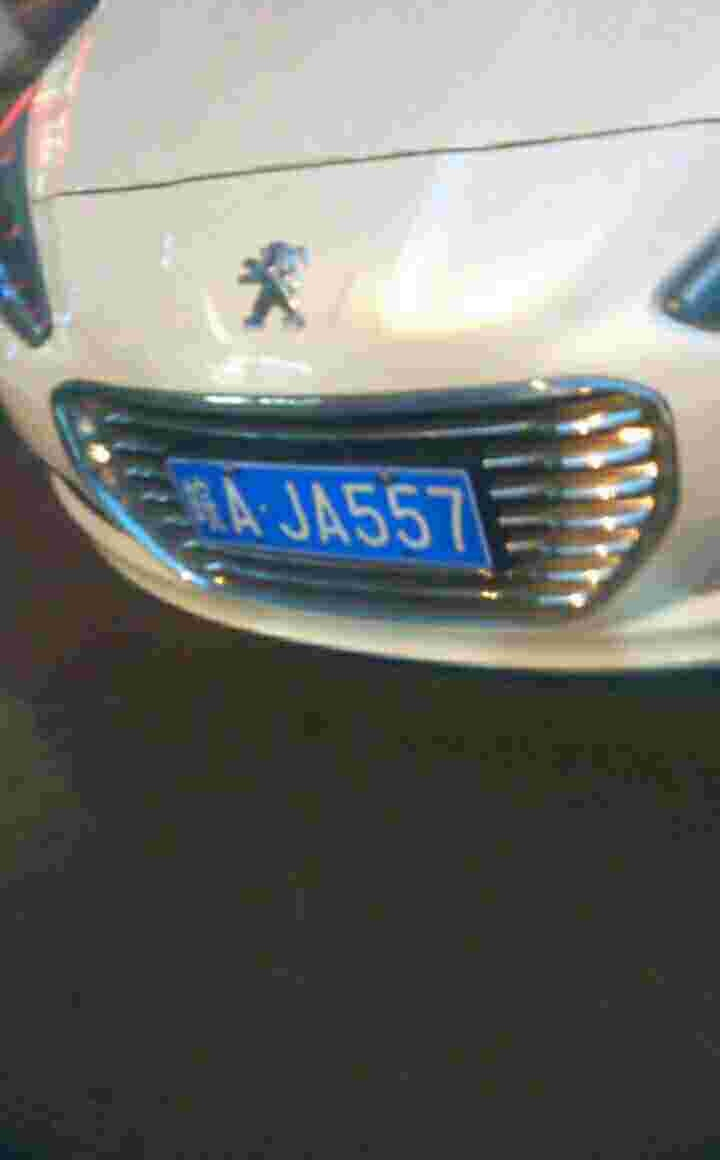license_plate: (159, 464, 500, 570)
